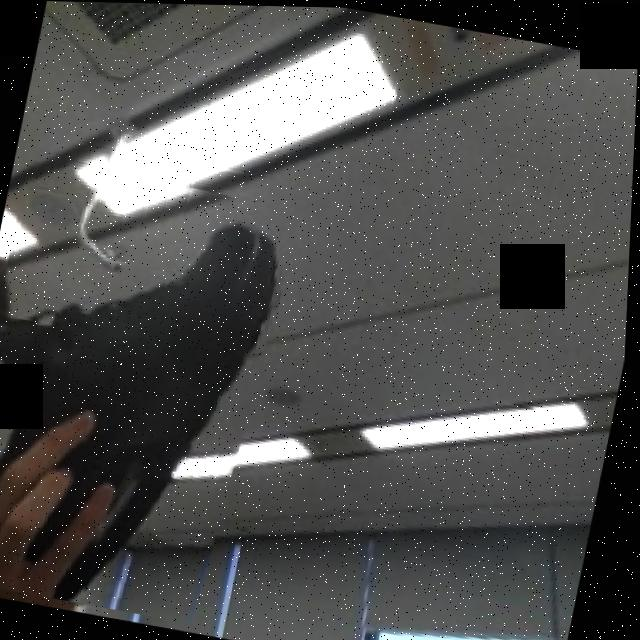shoe: (0, 149, 308, 628)
